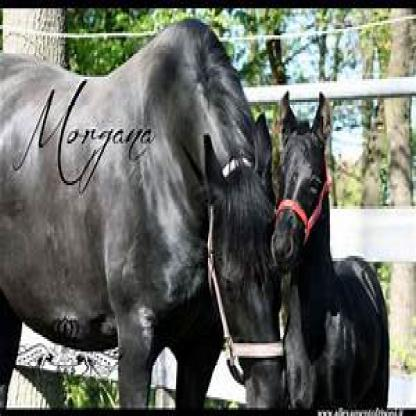horse: (1, 14, 284, 412), (270, 85, 390, 410)
